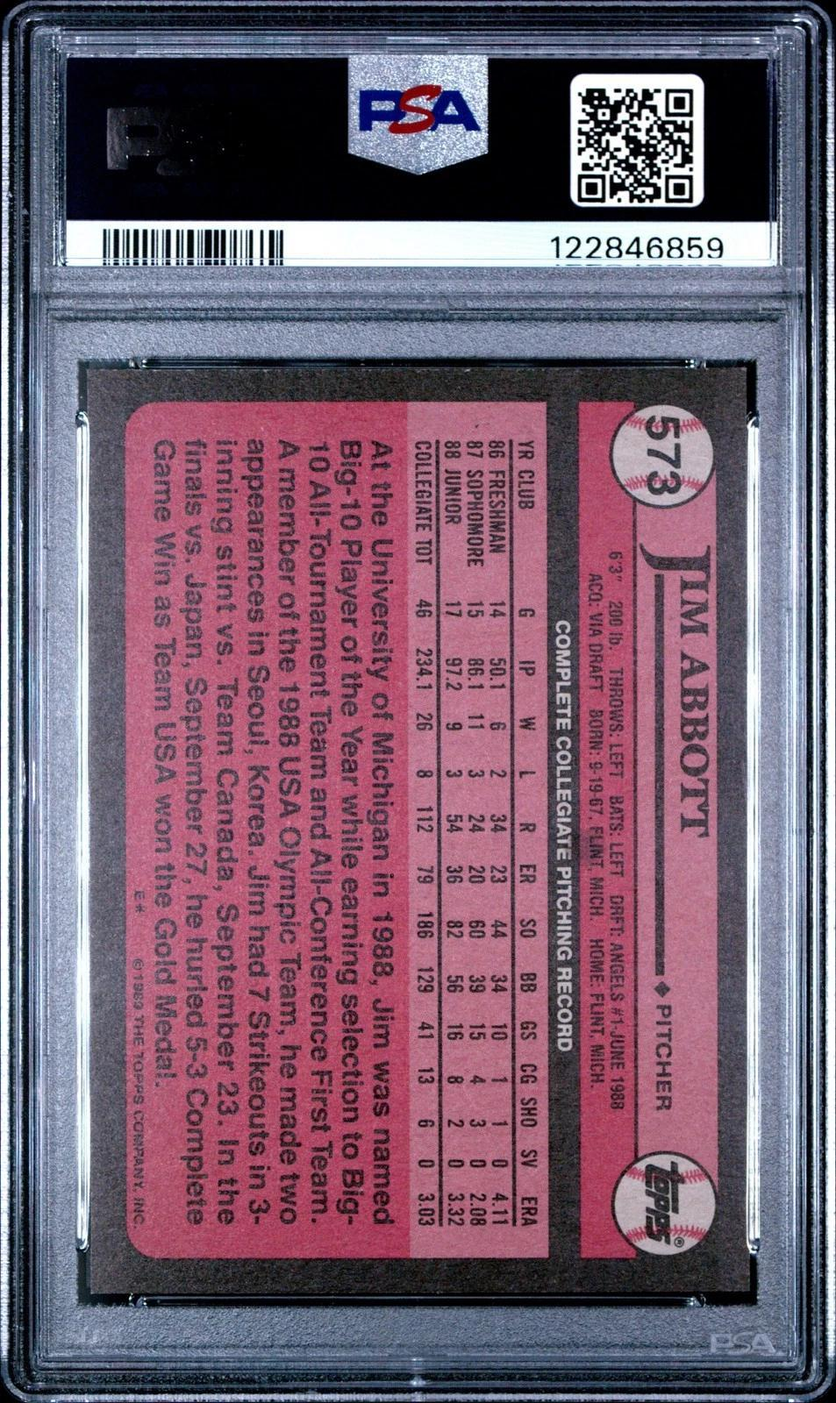card-2UtV: (85, 366, 751, 1295)
